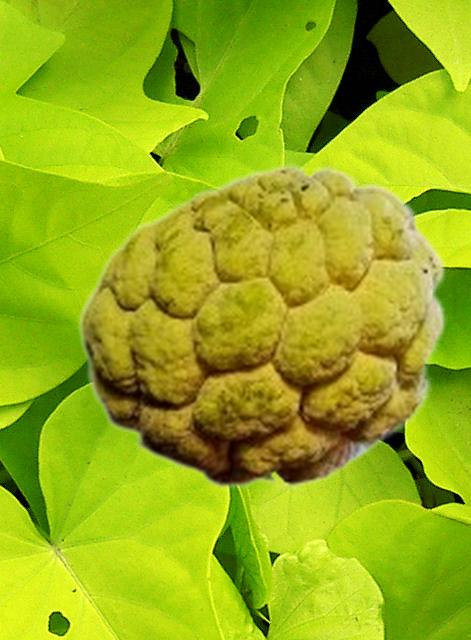atis: (76, 163, 446, 488)
